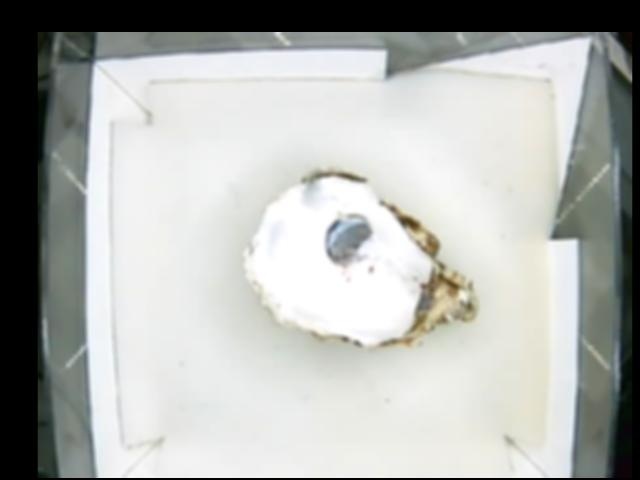Shell: (242, 166, 477, 345)
